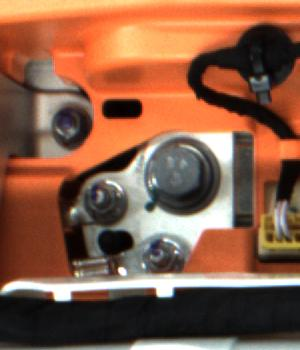nut_b: (147, 139, 220, 213)
screw_s: (85, 179, 125, 219), (46, 108, 88, 143), (142, 238, 176, 272)
